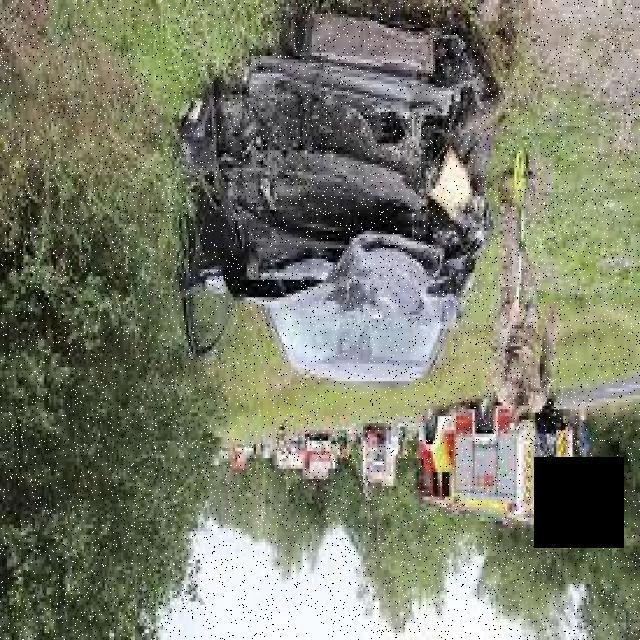severe: (177, 0, 505, 388)
